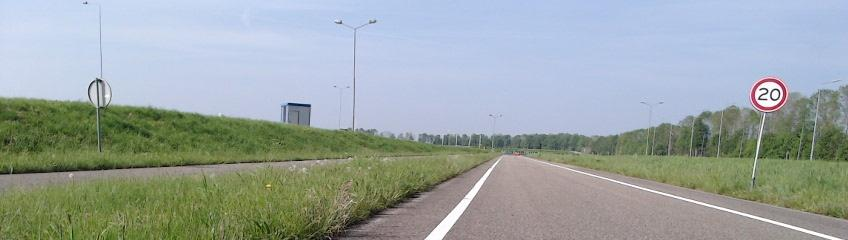Speed-limit-20km-h-: (751, 79, 786, 110)
